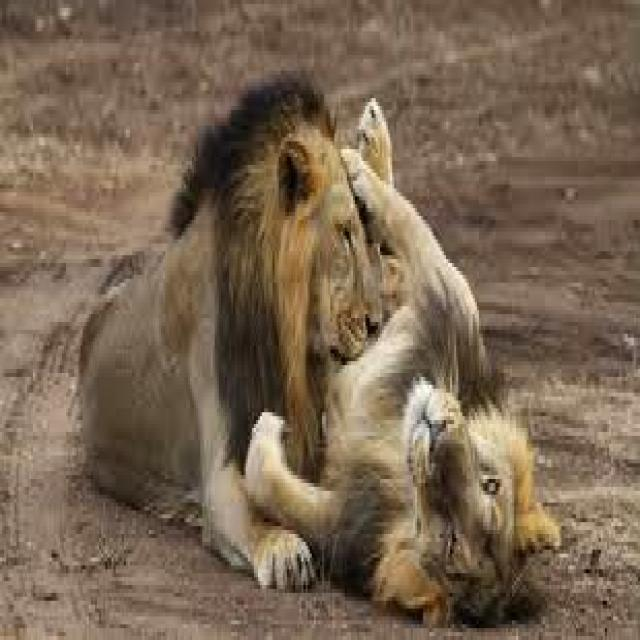lion: (81, 71, 378, 581), (239, 149, 557, 620)
